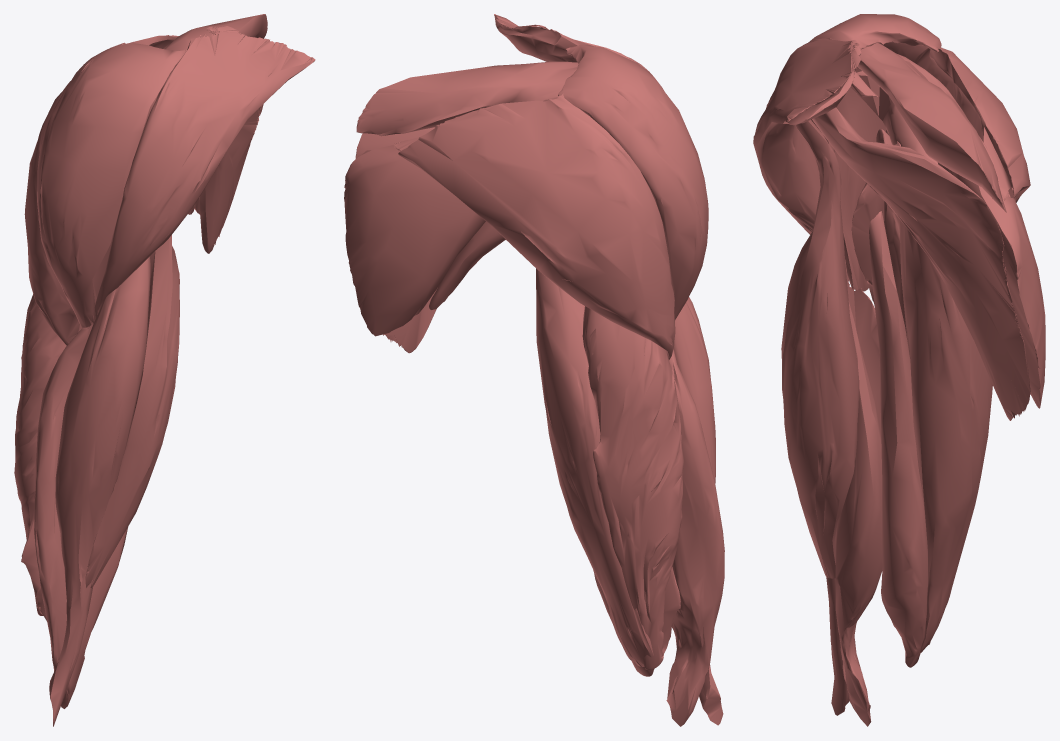
Rendered from muscular-upper-right.glb.
The picture shows the model from 3 angles, left to right: view 1: azimuth 30°, elevation 25°; view 2: azimuth 150°, elevation 25°; view 3: azimuth 270°, elevation 25°; orthographic projection. The views are drawn at different scales.
Parts seen in each view (by area): view 1: bp3d_FMA34680_FJ1468, bp3d_FMA34682_FJ1467, bp3d_FMA37686_FJ1478, bp3d_FMA37684_FJ1512, bp3d_FMA37668_FJ1486, bp3d_FMA37697_FJ1477, bp3d_FMA34684_FJ1513, bp3d_FMA13414_FJ1504, bp3d_FMA32544_FJ1506, bp3d_FMA37695_FJ1480; view 2: bp3d_FMA34684_FJ1513, bp3d_FMA37697_FJ1477, bp3d_FMA32547_FJ1500, bp3d_FMA34682_FJ1467, bp3d_FMA37699_FJ1479, bp3d_FMA37668_FJ1486, bp3d_FMA32544_FJ1506, bp3d_FMA37686_FJ1478, bp3d_FMA34680_FJ1468, bp3d_FMA13414_FJ1504, bp3d_FMA32553_FJ1508, bp3d_FMA37695_FJ1480; view 3: bp3d_FMA37684_FJ1512, bp3d_FMA37699_FJ1479, bp3d_FMA13414_FJ1504, bp3d_FMA37695_FJ1480, bp3d_FMA37668_FJ1486, bp3d_FMA34680_FJ1468, bp3d_FMA32544_FJ1506, bp3d_FMA34684_FJ1513, bp3d_FMA34682_FJ1467, bp3d_FMA32547_FJ1500, bp3d_FMA37686_FJ1478, bp3d_FMA32553_FJ1508 (+1 smaller).
Boxes of the visible parts, x1,y1,x2,y2 form: bp3d_FMA34680_FJ1468: (93, 26, 315, 323); bp3d_FMA34682_FJ1467: (37, 42, 185, 327); bp3d_FMA37686_FJ1478: (49, 256, 150, 726); bp3d_FMA37684_FJ1512: (85, 235, 179, 587); bp3d_FMA37668_FJ1486: (34, 324, 127, 708); bp3d_FMA37697_FJ1477: (14, 294, 93, 615); bp3d_FMA34684_FJ1513: (24, 35, 178, 345); bp3d_FMA13414_FJ1504: (199, 104, 263, 253); bp3d_FMA32544_FJ1506: (165, 14, 267, 51); bp3d_FMA37695_FJ1480: (21, 515, 46, 620); bp3d_FMA34684_FJ1513: (393, 93, 675, 359); bp3d_FMA37697_FJ1477: (582, 306, 683, 669); bp3d_FMA32547_FJ1500: (344, 145, 485, 336); bp3d_FMA34682_FJ1467: (558, 45, 708, 319); bp3d_FMA37699_FJ1479: (536, 268, 653, 666); bp3d_FMA37668_FJ1486: (666, 349, 724, 726); bp3d_FMA32544_FJ1506: (356, 61, 578, 136); bp3d_FMA37686_FJ1478: (576, 62, 723, 725); bp3d_FMA34680_FJ1468: (494, 14, 663, 90); bp3d_FMA13414_FJ1504: (355, 127, 437, 353); bp3d_FMA32553_FJ1508: (429, 222, 505, 309); bp3d_FMA37695_FJ1480: (593, 567, 680, 676); bp3d_FMA37684_FJ1512: (782, 120, 859, 578); bp3d_FMA37699_FJ1479: (895, 141, 992, 652); bp3d_FMA13414_FJ1504: (812, 107, 1030, 420); bp3d_FMA37695_FJ1480: (869, 211, 927, 667); bp3d_FMA37668_FJ1486: (835, 286, 882, 726); bp3d_FMA34680_FJ1468: (753, 38, 861, 288); bp3d_FMA32544_FJ1506: (857, 43, 1006, 212); bp3d_FMA34684_FJ1513: (851, 47, 1030, 305); bp3d_FMA34682_FJ1467: (808, 14, 941, 291); bp3d_FMA32547_FJ1500: (897, 54, 1045, 408); bp3d_FMA37686_FJ1478: (781, 71, 877, 715); bp3d_FMA32553_FJ1508: (850, 71, 938, 164).
Size of the model in its own units: 0.1749 by 0.3613 by 0.125.
